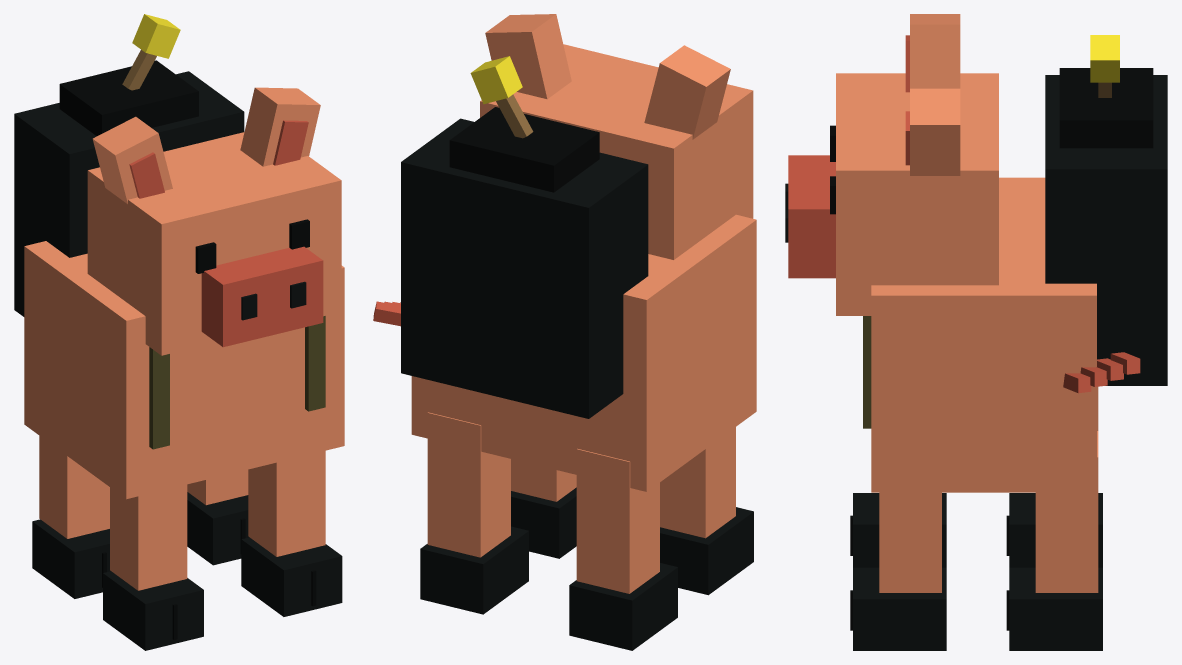
The model's file is SvininaBombardino_Mini.glb.
3 renders of one model, left to right at view 1: azimuth 30°, elevation 25°; view 2: azimuth 150°, elevation 25°; view 3: azimuth 270°, elevation 25°, orthographic. The views are drawn at different scales.
Parts seen in each view (by area): view 1: SvininaBombardino_Mini; view 2: SvininaBombardino_Mini; view 3: SvininaBombardino_Mini.
Part boxes in pixels (<box>): SvininaBombardino_Mini: <box>14,14,344,650</box>; SvininaBombardino_Mini: <box>373,14,756,650</box>; SvininaBombardino_Mini: <box>785,14,1167,650</box>.
Bounding box in the file's own units: 0.9668 × 2 × 1.21.
1 material, 1 textured.
